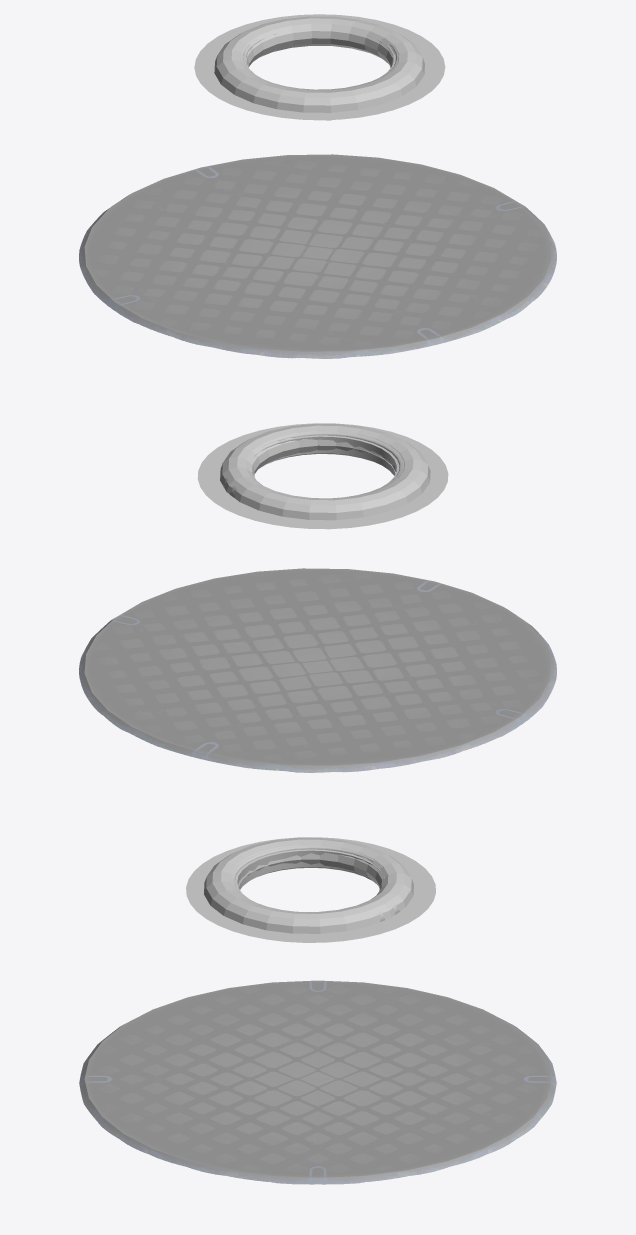
File: pref_TPC_v2_NeutralScoreArea03_winter_orange_interfere_lv3.fbx
3 views of the same model, one above another, from view 1: azimuth 30°, elevation 25°; view 2: azimuth 150°, elevation 25°; view 3: azimuth 270°, elevation 25° (orthographic).
Visible parts, largest first — view 1: sm_prop_platform06a_lv3, sm_fx_0037_ring_04_xz (3), sm_fx_0037_ring_04_xz (2), sm_prop_platform06b_lv3; view 2: sm_prop_platform06a_lv3, sm_fx_0037_ring_04_xz (3), sm_fx_0037_ring_04_xz (2), sm_prop_platform06b_lv3; view 3: sm_prop_platform06a_lv3, sm_fx_0037_ring_04_xz (3), sm_fx_0037_ring_04_xz (2), sm_prop_platform06b_lv3.
Part boxes in pixels (x1,y1,x2,y2): sm_prop_platform06a_lv3: (79, 154, 556, 358); sm_fx_0037_ring_04_xz (3): (214, 16, 424, 120); sm_fx_0037_ring_04_xz (2): (194, 14, 445, 120); sm_prop_platform06b_lv3: (243, 33, 398, 90); sm_prop_platform06a_lv3: (79, 568, 556, 772); sm_fx_0037_ring_04_xz (3): (220, 424, 430, 520); sm_fx_0037_ring_04_xz (2): (197, 423, 448, 529); sm_prop_platform06b_lv3: (224, 431, 404, 500); sm_prop_platform06a_lv3: (79, 980, 556, 1184); sm_fx_0037_ring_04_xz (3): (204, 837, 413, 933); sm_fx_0037_ring_04_xz (2): (186, 837, 435, 942); sm_prop_platform06b_lv3: (230, 845, 396, 920).
Size of the model in its own units: 7.46 by 2.9 by 7.46.
